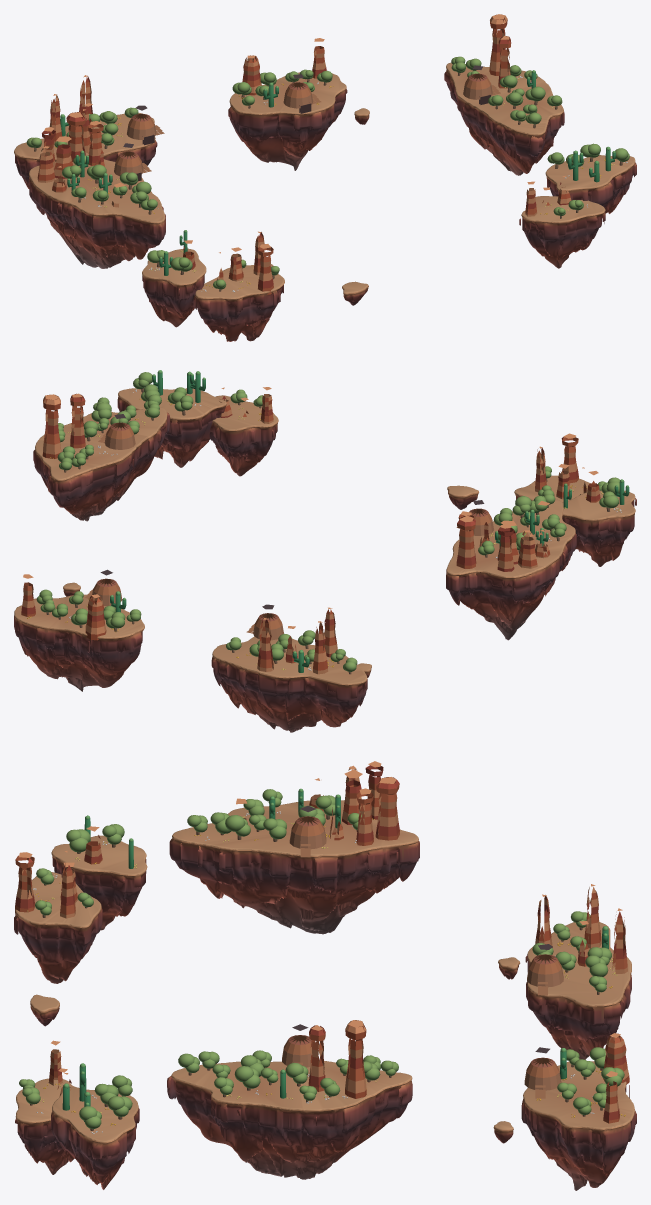
The model's file is kiln.glb.
The picture shows the model from 3 angles, top to bottom: view 1: azimuth 30°, elevation 25°; view 2: azimuth 150°, elevation 25°; view 3: azimuth 270°, elevation 25°; orthographic projection. The views are drawn at different scales.
Visible parts, largest first — view 1: decor_solid, decor_leaves, decor_m06, decor_m07, decor_m01, decor_m03, decor_m04, decor_m03.001, decor_m04.001, decor_m00; view 2: decor_solid, decor_leaves, decor_m00, decor_m06, decor_m01, decor_m07, decor_m03.001, decor_m04.001, decor_m04, decor_m03, decor_s00; view 3: decor_m06, decor_solid, decor_m07, decor_leaves, decor_m01, decor_m00, decor_m03, decor_m03.001, decor_m04.001, decor_m04, decor_s00.
Part boxes in pixels (x1=…): decor_solid: x1=37, y1=14, x2=571, y2=294; decor_leaves: x1=26, y1=56, x2=629, y2=289; decor_m06: x1=29, y1=152, x2=165, y2=268; decor_m07: x1=444, y1=62, x2=564, y2=175; decor_m01: x1=228, y1=72, x2=347, y2=170; decor_m03: x1=193, y1=264, x2=284, y2=341; decor_m04: x1=519, y1=196, x2=605, y2=268; decor_m03.001: x1=545, y1=155, x2=636, y2=218; decor_m04.001: x1=142, y1=248, x2=206, y2=327; decor_m00: x1=14, y1=112, x2=157, y2=188; decor_solid: x1=21, y1=387, x2=600, y2=674; decor_leaves: x1=36, y1=370, x2=629, y2=672; decor_m00: x1=211, y1=636, x2=367, y2=732; decor_m06: x1=446, y1=499, x2=576, y2=640; decor_m01: x1=14, y1=594, x2=144, y2=691; decor_m07: x1=33, y1=407, x2=169, y2=521; decor_m03.001: x1=117, y1=388, x2=226, y2=467; decor_m04.001: x1=562, y1=490, x2=636, y2=566; decor_m04: x1=209, y1=395, x2=278, y2=476; decor_m03: x1=514, y1=475, x2=590, y2=551; decor_s00: x1=447, y1=485, x2=478, y2=509; decor_m06: x1=169, y1=800, x2=419, y2=934; decor_solid: x1=15, y1=761, x2=629, y2=1123; decor_m07: x1=167, y1=1061, x2=412, y2=1179; decor_leaves: x1=19, y1=788, x2=624, y2=1128; decor_m01: x1=521, y1=1061, x2=636, y2=1190; decor_m00: x1=525, y1=922, x2=631, y2=1059; decor_m03: x1=14, y1=872, x2=102, y2=983; decor_m03.001: x1=51, y1=1087, x2=139, y2=1189; decor_m04.001: x1=51, y1=835, x2=147, y2=930; decor_m04: x1=15, y1=1078, x2=75, y2=1174; decor_s00: x1=30, y1=994, x2=59, y2=1026.
Bounding box in the file's own units: 36.05 × 12.92 × 30.49.
